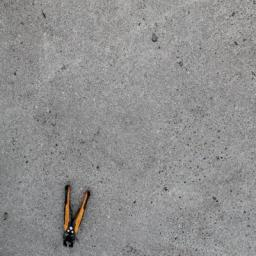FOD: (60, 182, 92, 250)
